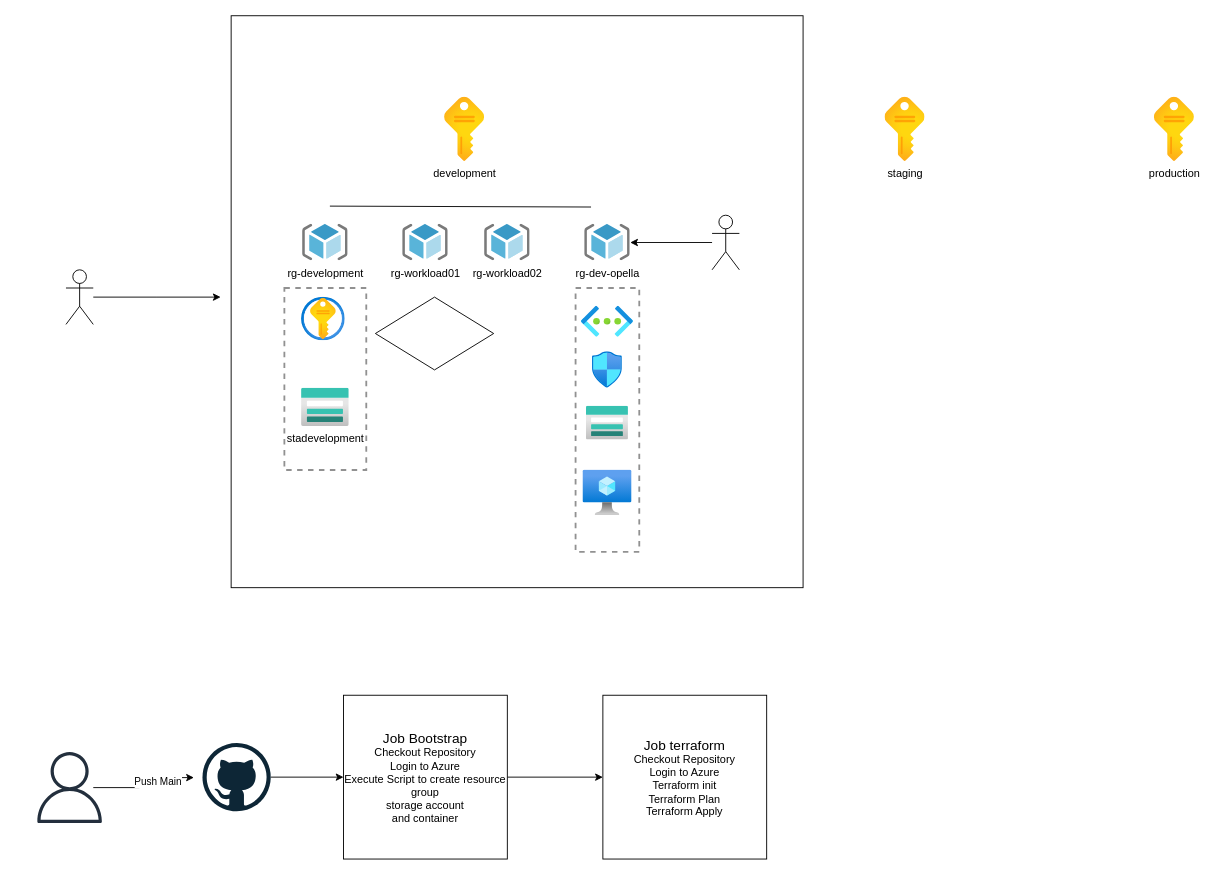
Image size: 1216x875. Some labels were removed from this diagram. The centre of each missing label's shape, as x and y in pixels:
Github repository: [236,776]
here persist the sp secrets: [434,333]
kv-identity: [323,318]
Service Principal Contributor Scope: Entire Resource Group: [725,242]
Service Principal Owner Scope: Entire Subscription: [79,296]
